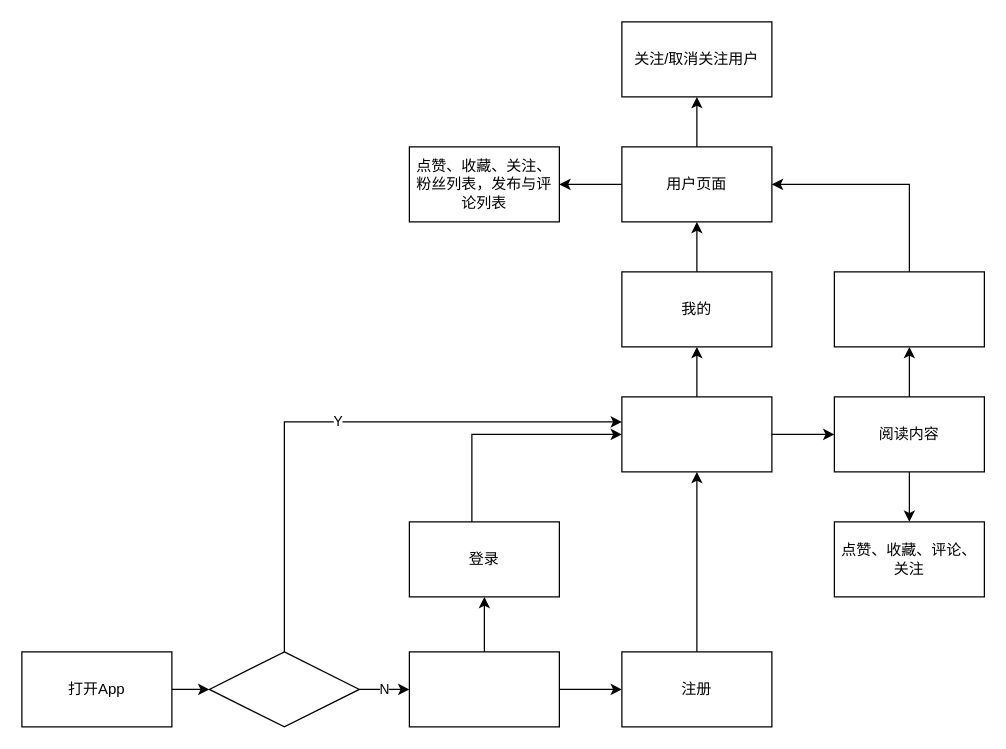
This 1006x749 diagram has some shape labels left out. The shapes that lost their labels are listed below. From the top down, each one's centre as x and y in pixels, then its label:
At point (908, 309): "作者页面".
At point (696, 434): "首页、推荐列表".
At point (283, 689): "已登录".
At point (483, 689): "登录、注册界面".
